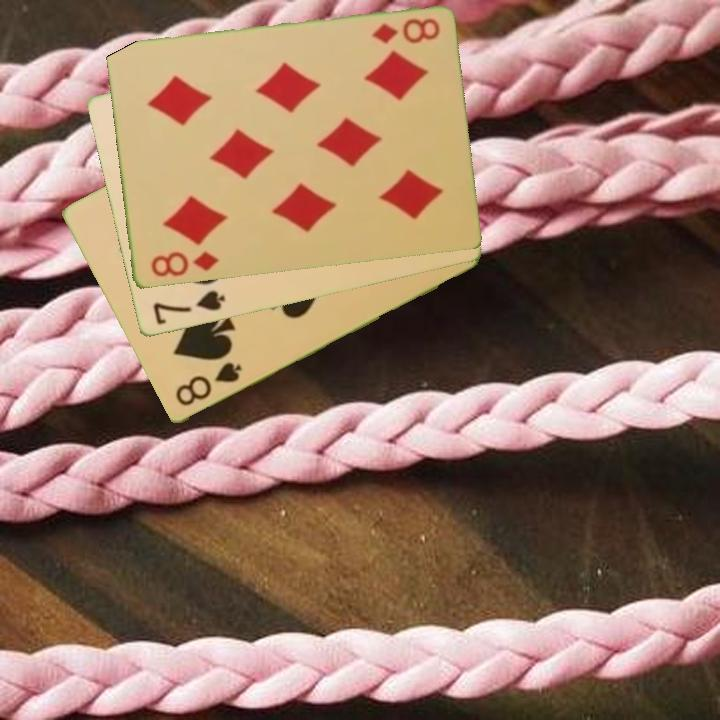7s: (149, 287, 228, 328)
8d: (147, 248, 222, 281), (367, 15, 442, 47)
8s: (171, 359, 245, 410)
